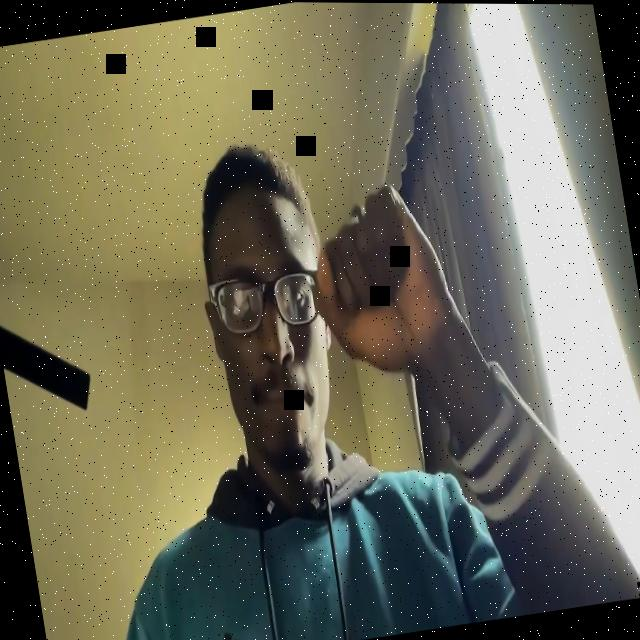Rock: (294, 173, 466, 388)
